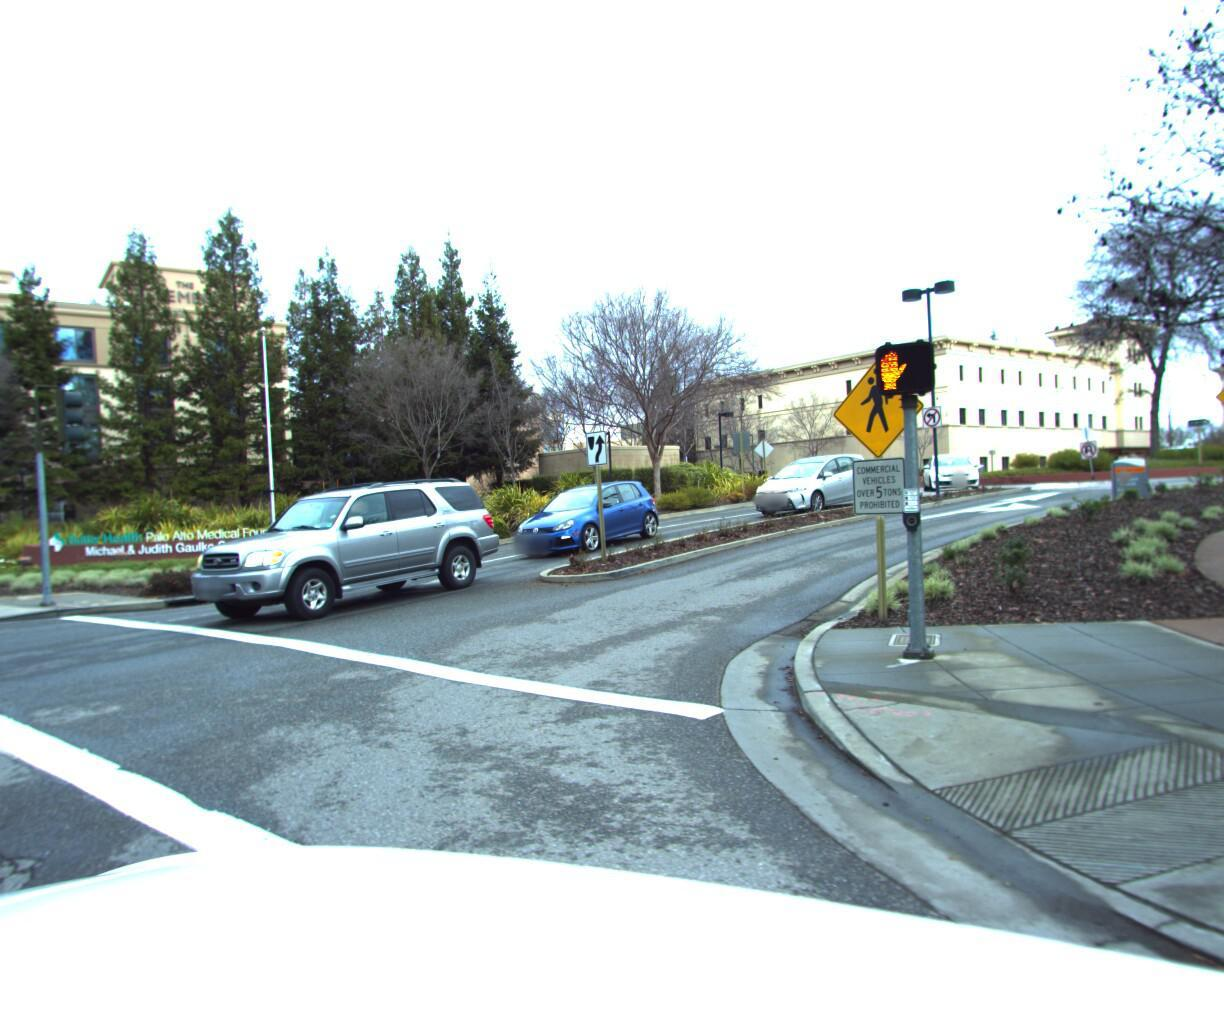car: (155, 471, 525, 631), (493, 471, 679, 553), (735, 446, 886, 513), (909, 435, 978, 485)
